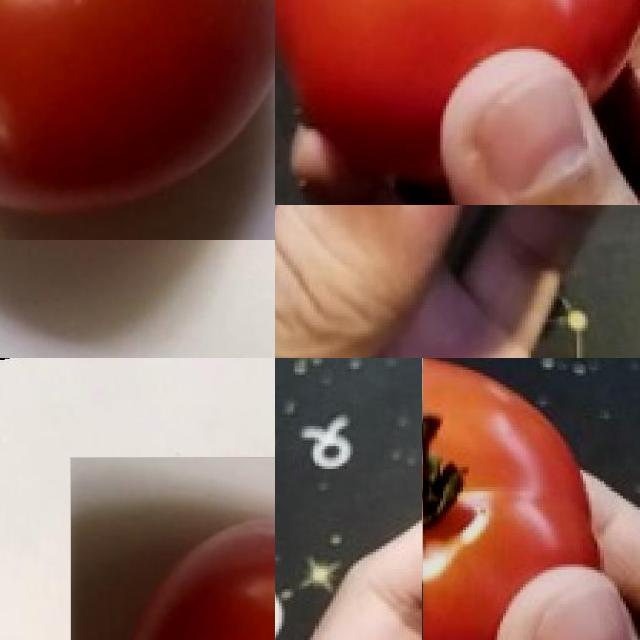Fresh Tomato: (275, 0, 640, 204), (0, 0, 275, 240), (422, 358, 640, 640), (70, 456, 275, 640)
